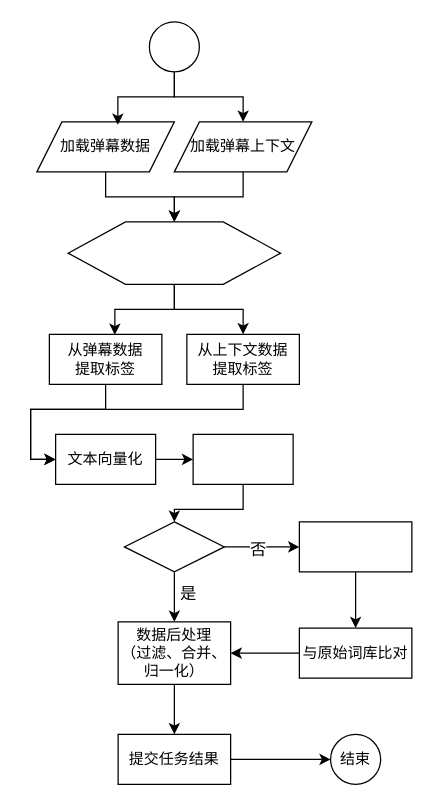
The diagram is 434 pixels wide and 806 high, and some of its shapes have lost their labels. The shapes that lost their labels are listed below. From the top down, each one's centre as x and y in pixels, then its label:
At (x=173, y=46): "开始".
At (x=174, y=252): "数据预处理 （分词、提取关键词等）".
At (x=242, y=458): "与本地向量化 词库 比对".
At (x=173, y=546): "是否成功？".
At (x=355, y=546): "降级为普通分词".
